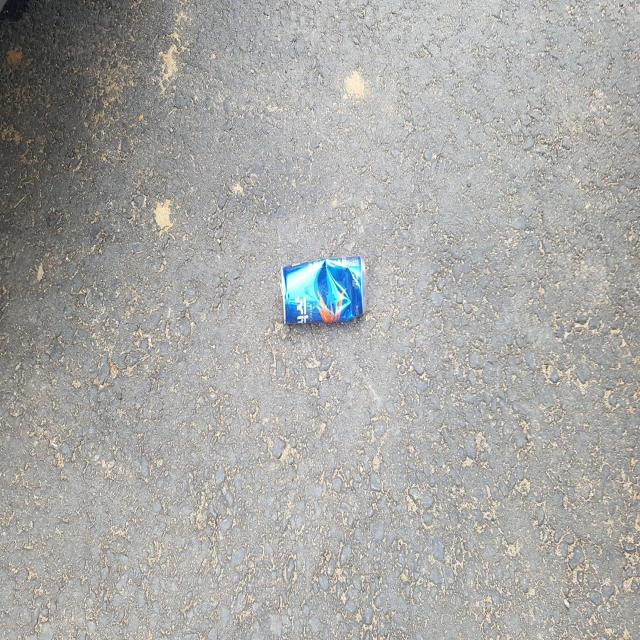can: (282, 255, 367, 324)
